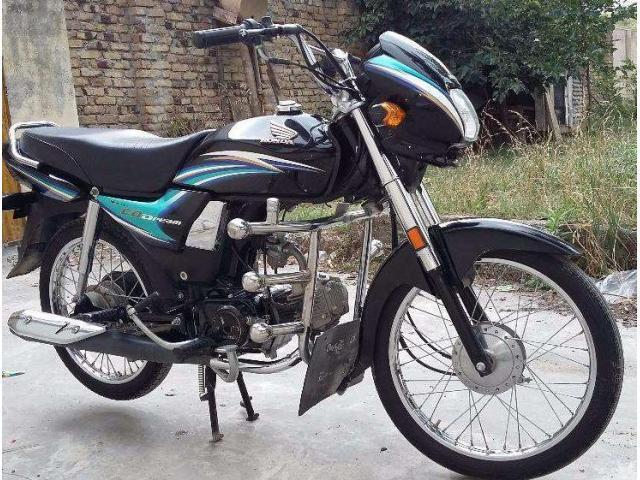motorcycle: (9, 12, 621, 472)
